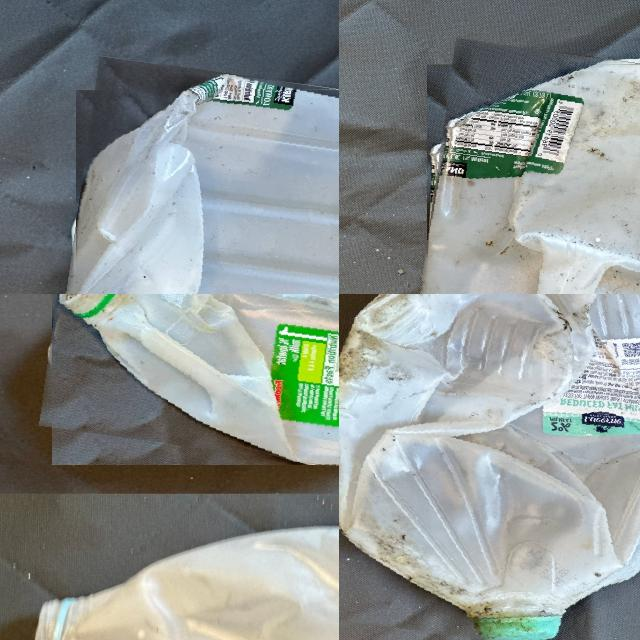milk-jug: (339, 294, 640, 640), (65, 72, 339, 294), (44, 294, 339, 483), (413, 50, 640, 294), (35, 531, 339, 640)
